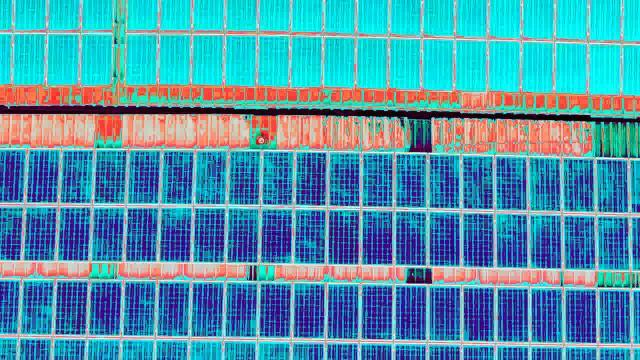dirty: (10, 32, 45, 84), (47, 31, 82, 83), (78, 33, 113, 85), (122, 33, 157, 85), (155, 35, 190, 87), (191, 35, 226, 87), (223, 34, 258, 86), (257, 33, 292, 85), (289, 35, 324, 87), (322, 33, 357, 85), (358, 35, 393, 87), (391, 38, 426, 90), (421, 37, 456, 89), (457, 37, 492, 89), (485, 39, 520, 91), (519, 38, 554, 90), (551, 40, 586, 92), (589, 43, 624, 95)
semi: (26, 149, 60, 206), (61, 148, 95, 205), (92, 147, 126, 204), (127, 148, 161, 205), (160, 147, 194, 204), (193, 149, 227, 206), (225, 148, 259, 205), (261, 147, 295, 204), (293, 149, 327, 206), (326, 151, 360, 208), (359, 151, 393, 208), (392, 149, 426, 206), (427, 153, 461, 210), (458, 151, 492, 208), (492, 153, 526, 210), (529, 154, 563, 211), (557, 155, 591, 212), (595, 155, 629, 212), (597, 214, 631, 271), (566, 208, 600, 265), (529, 209, 563, 266), (494, 209, 528, 266), (463, 210, 497, 267), (429, 208, 463, 265), (396, 207, 430, 264), (359, 206, 393, 263), (328, 206, 362, 263), (293, 204, 327, 261), (259, 205, 293, 262), (224, 208, 258, 265), (192, 207, 226, 264), (158, 203, 192, 260), (125, 204, 159, 261), (93, 202, 127, 259), (58, 204, 92, 261), (23, 202, 57, 259), (18, 277, 52, 334), (51, 277, 85, 334), (88, 280, 122, 337), (124, 278, 158, 335), (158, 278, 192, 335), (191, 279, 225, 336), (222, 279, 256, 336), (259, 280, 293, 337), (289, 280, 323, 337), (325, 281, 359, 338), (361, 283, 395, 340), (395, 282, 429, 339), (426, 284, 460, 341), (458, 284, 492, 341), (497, 286, 531, 343), (530, 287, 564, 344), (559, 287, 593, 344), (601, 288, 635, 345)
